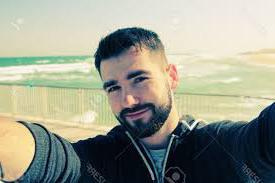face: (100, 48, 172, 139)
